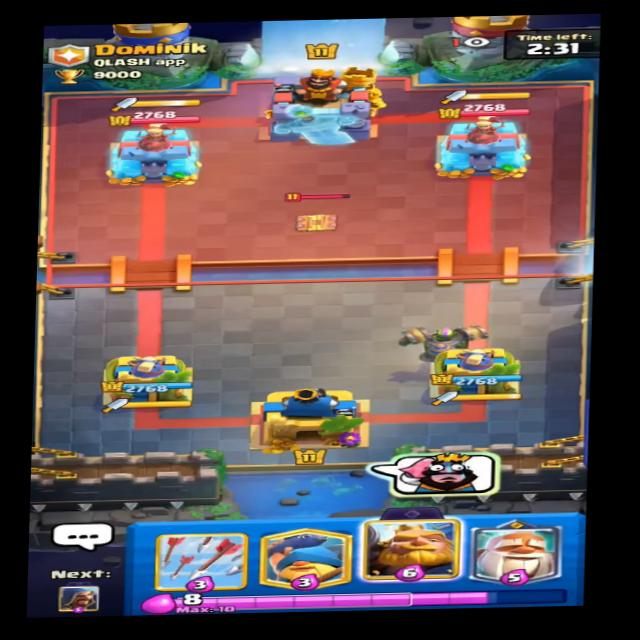Teslahidden: (274, 185, 363, 236)
